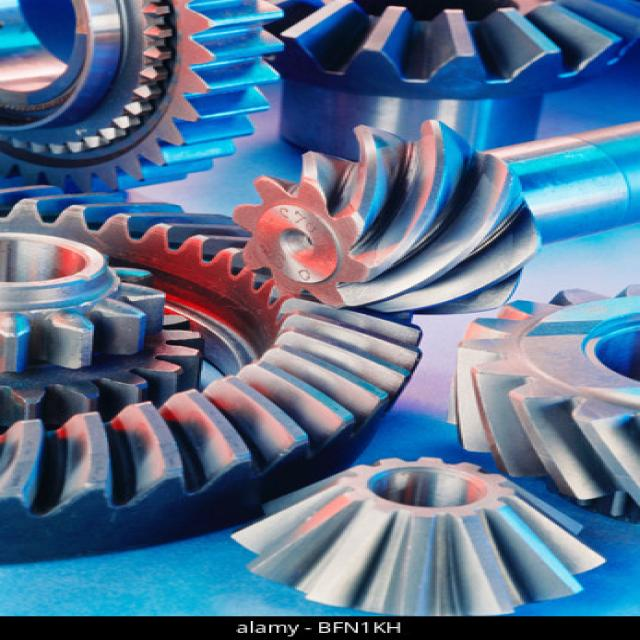Gear: (0, 181, 426, 566), (233, 118, 546, 319), (226, 455, 607, 615), (0, 0, 286, 197), (446, 277, 640, 529), (259, 0, 640, 107), (0, 306, 211, 435), (0, 228, 172, 374)
